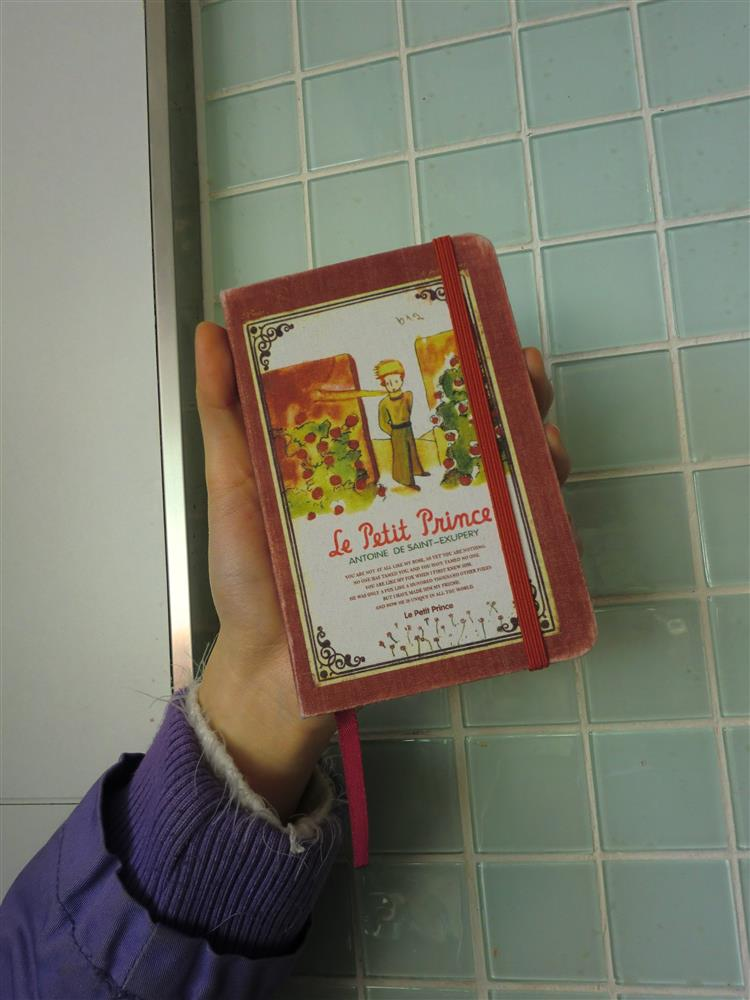prince_book: (212, 242, 607, 729)
